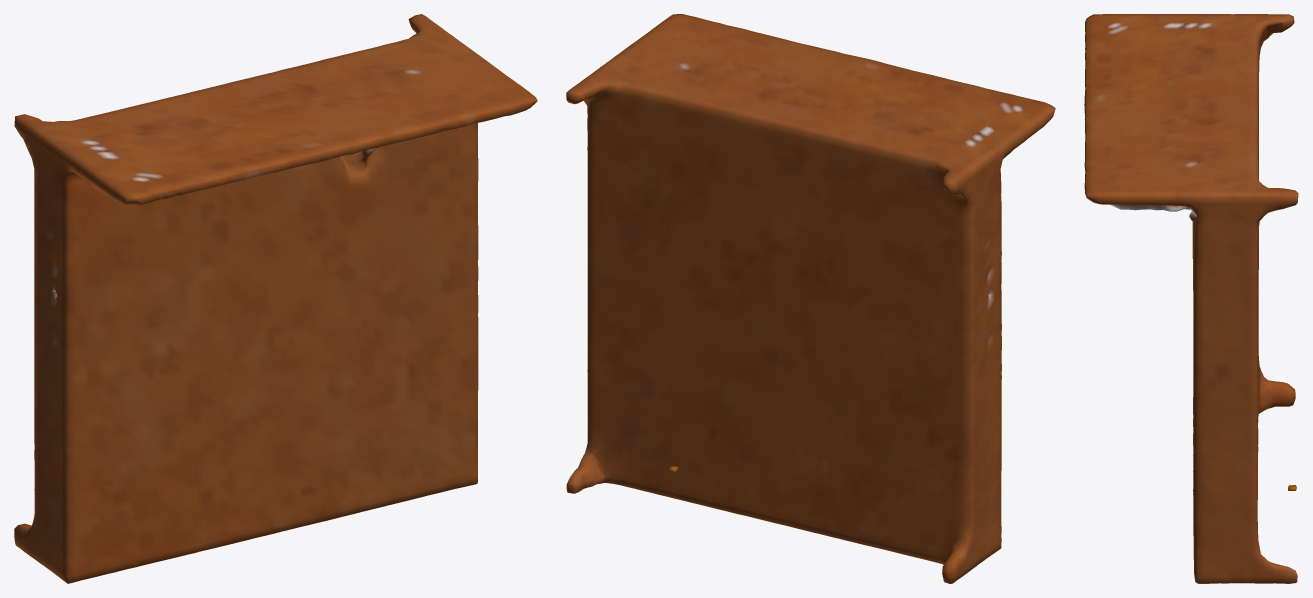
Rendered from a bed.obj.
The picture shows the model from 3 angles, left to right: view 1: azimuth 30°, elevation 25°; view 2: azimuth 150°, elevation 25°; view 3: azimuth 270°, elevation 25°; orthographic projection. The views are drawn at different scales.
Bounding box in the file's own units: 1 × 1 × 0.4969.
